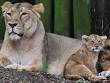lion: (3, 3, 110, 79)
